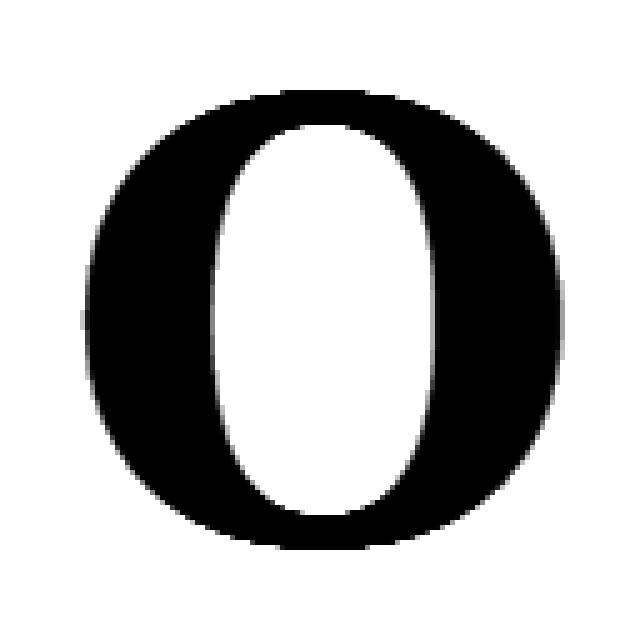O: (80, 90, 565, 555)
